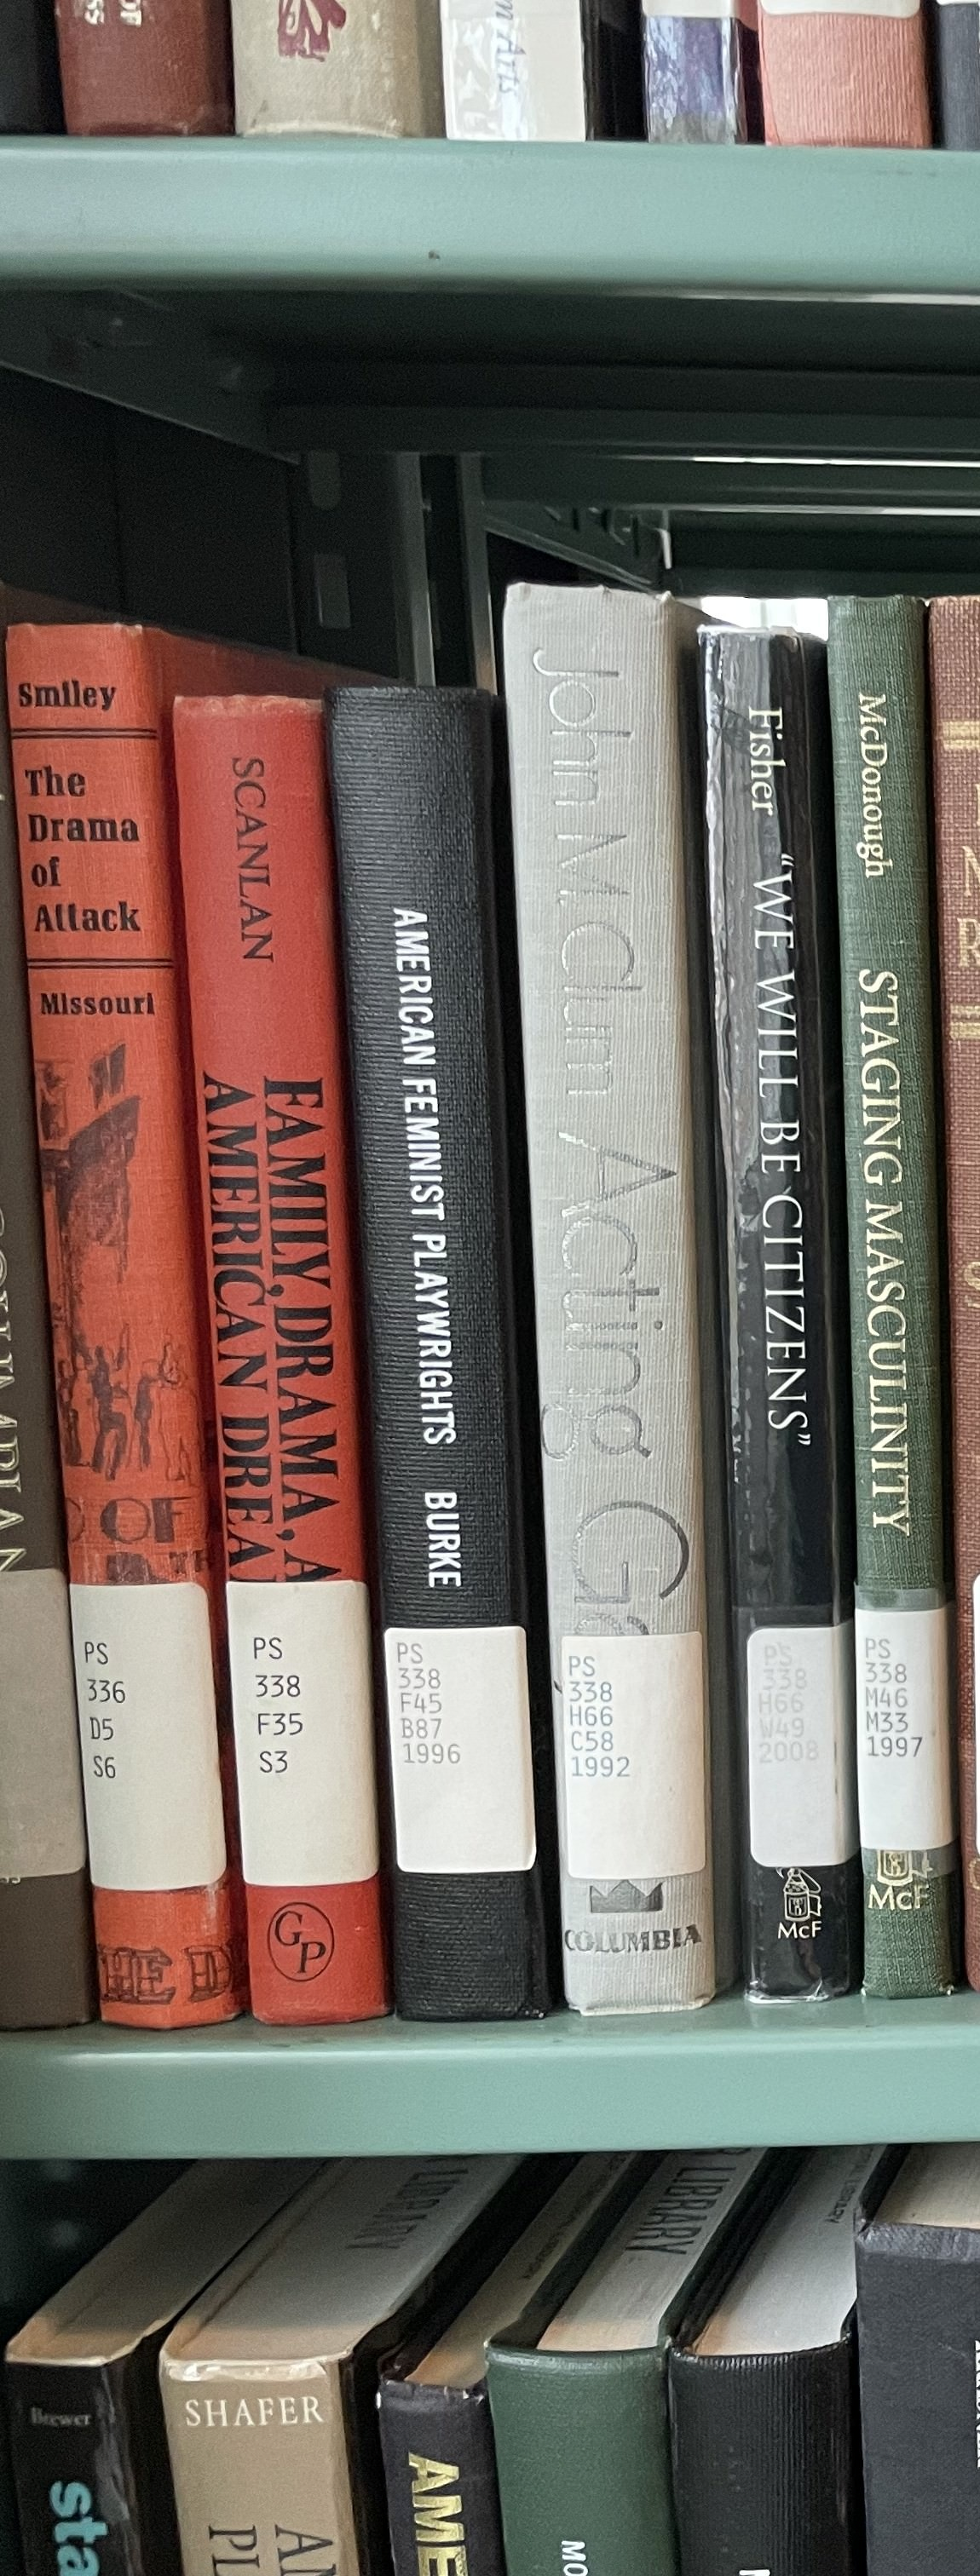call_number: (64, 1582, 224, 1888), (235, 1579, 372, 1893), (385, 1630, 534, 1871), (556, 1633, 705, 1873), (855, 1607, 960, 1851), (743, 1625, 845, 1870)
